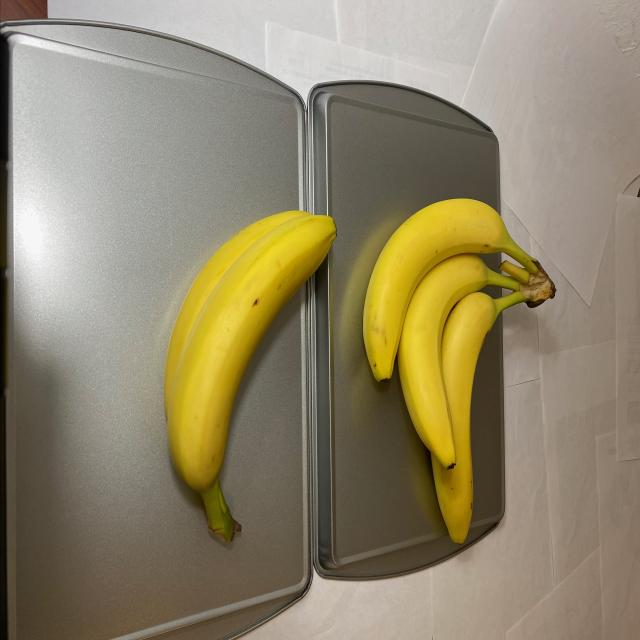banana: (360, 191, 557, 554), (162, 198, 341, 560)
